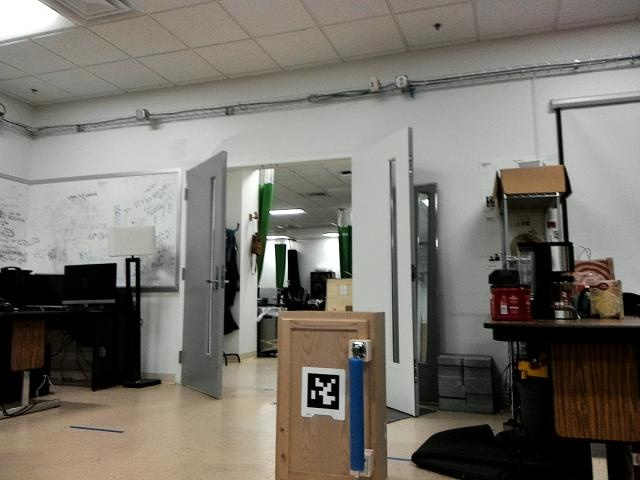noodle_handle: (343, 355, 369, 473)
